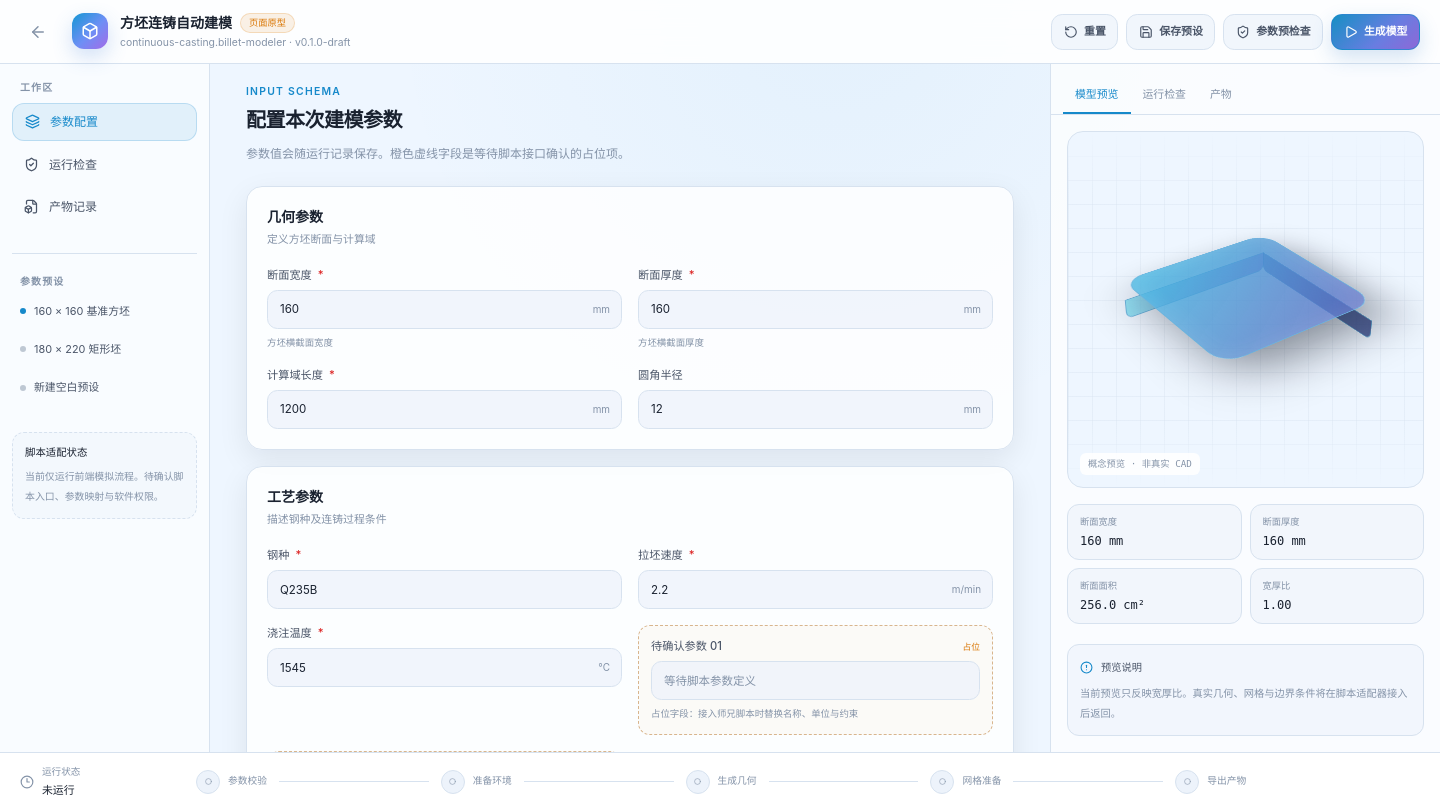
it: automation workbench › keeps the geometry preview synchronized with edited dimensions
Step 1. Replace the text in the number field labelled "断面宽度" with "200" → (444, 309), box top-left (267, 290), bottom-right (622, 329)
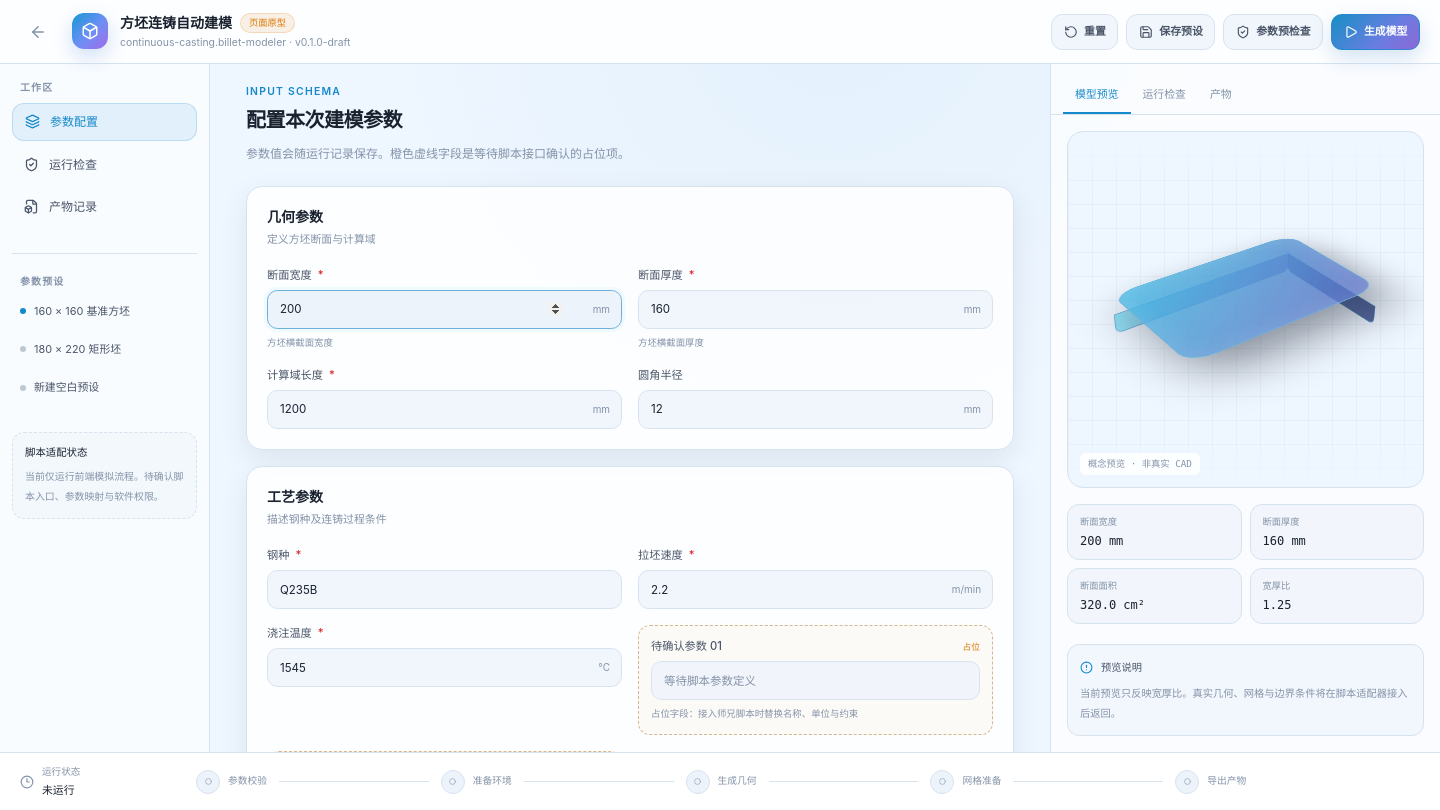
Result: the text "200 mm" is shown at top-left (1080, 534), bottom-right (1123, 548)
Result: the text "320.0 cm²" is shown at top-left (1080, 598), bottom-right (1145, 612)
